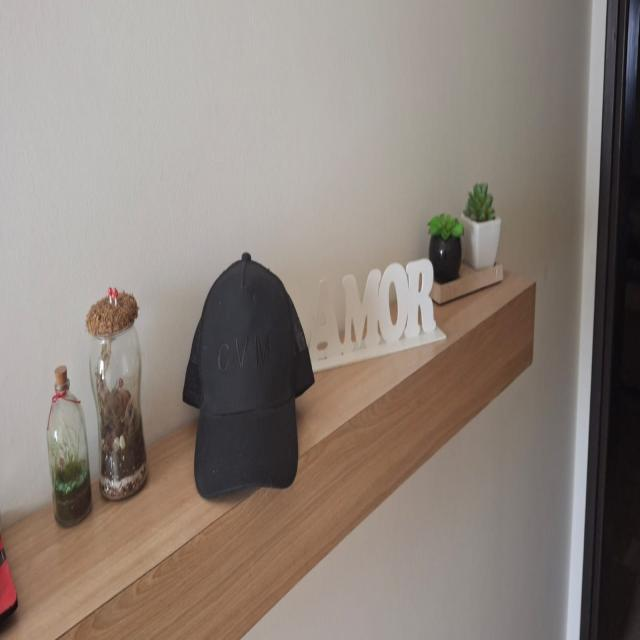Gorra: (178, 256, 321, 518)
